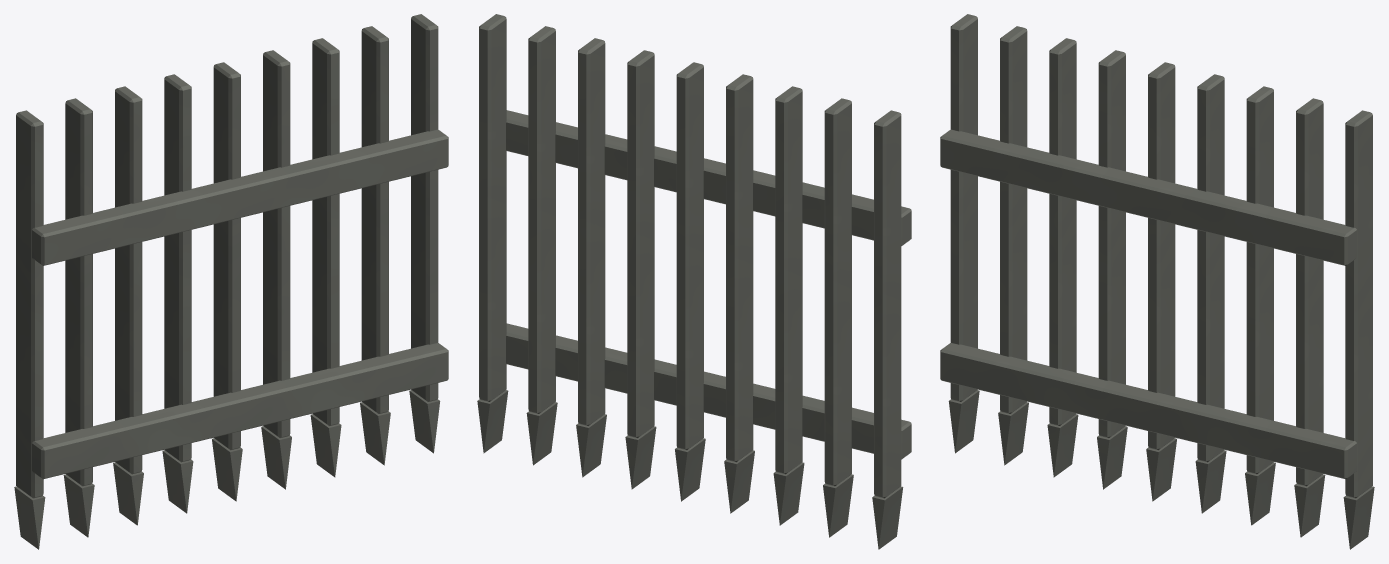
The model's file is WarrensC_WVC031_ChainCrossingBarsSkin_Mars_SM.fbx.
The picture shows the model from 3 angles, left to right: view 1: azimuth 30°, elevation 25°; view 2: azimuth 150°, elevation 25°; view 3: azimuth 330°, elevation 25°; orthographic projection.
Visible parts, largest first — view 1: WarrensC_WVC031_ChainCrossingBarsSkin_Mars_SM.001; view 2: WarrensC_WVC031_ChainCrossingBarsSkin_Mars_SM.001; view 3: WarrensC_WVC031_ChainCrossingBarsSkin_Mars_SM.001.
Part boxes in pixels (bbox=[...]): WarrensC_WVC031_ChainCrossingBarsSkin_Mars_SM.001: bbox=[14, 14, 448, 549]; WarrensC_WVC031_ChainCrossingBarsSkin_Mars_SM.001: bbox=[477, 14, 911, 549]; WarrensC_WVC031_ChainCrossingBarsSkin_Mars_SM.001: bbox=[940, 14, 1374, 549].
Size of the model in its own units: 250 by 30 by 250.
